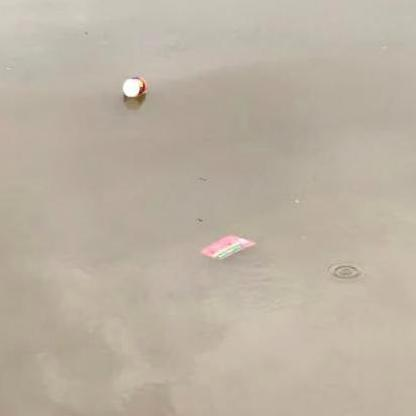plastic bottle: (122, 76, 148, 98)
